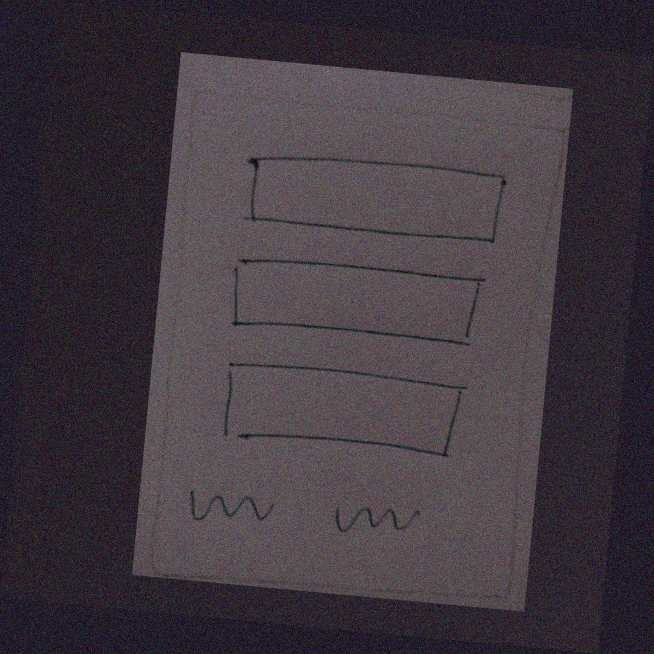text: (177, 478, 287, 535), (318, 488, 424, 545)
text_input: (208, 352, 476, 471), (232, 141, 511, 253), (219, 246, 492, 358)
